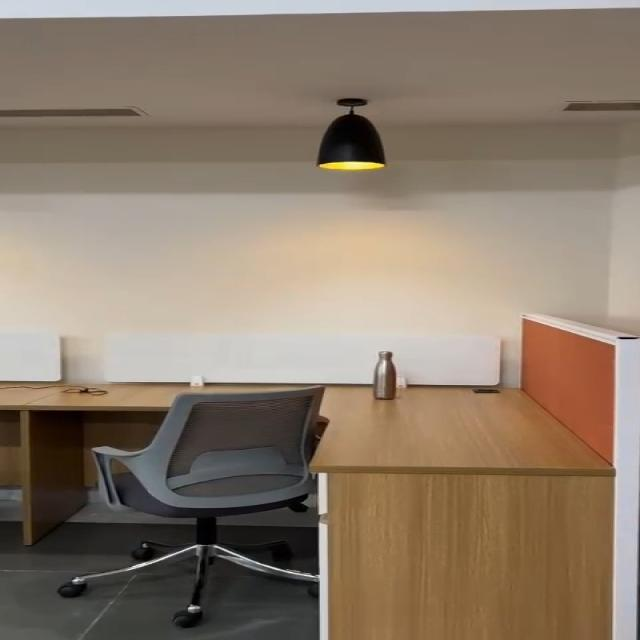floor: (0, 546, 63, 640)
furniture: (73, 376, 319, 624)
wall: (0, 53, 640, 321)
